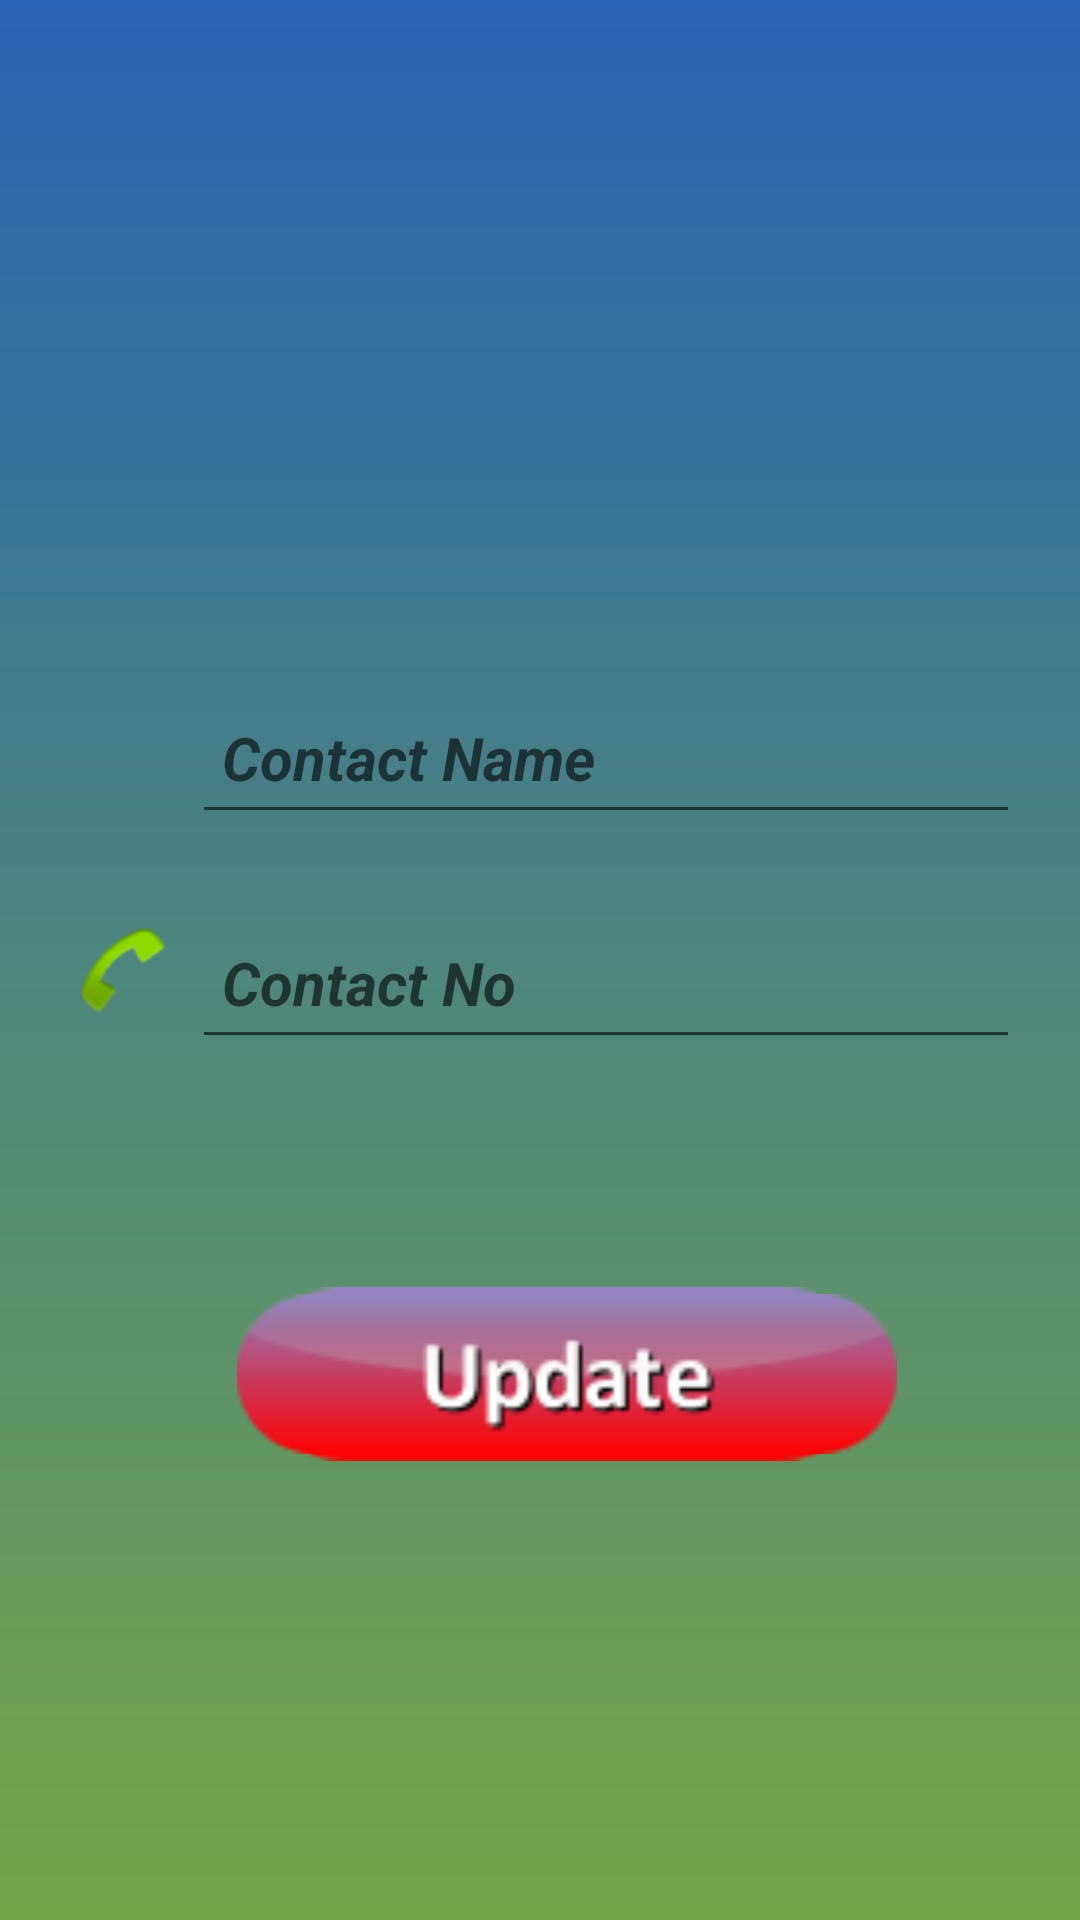

Where to tap for icons on this 1080*1920 app screen, as (x,y):
sym action call: (122,969)
